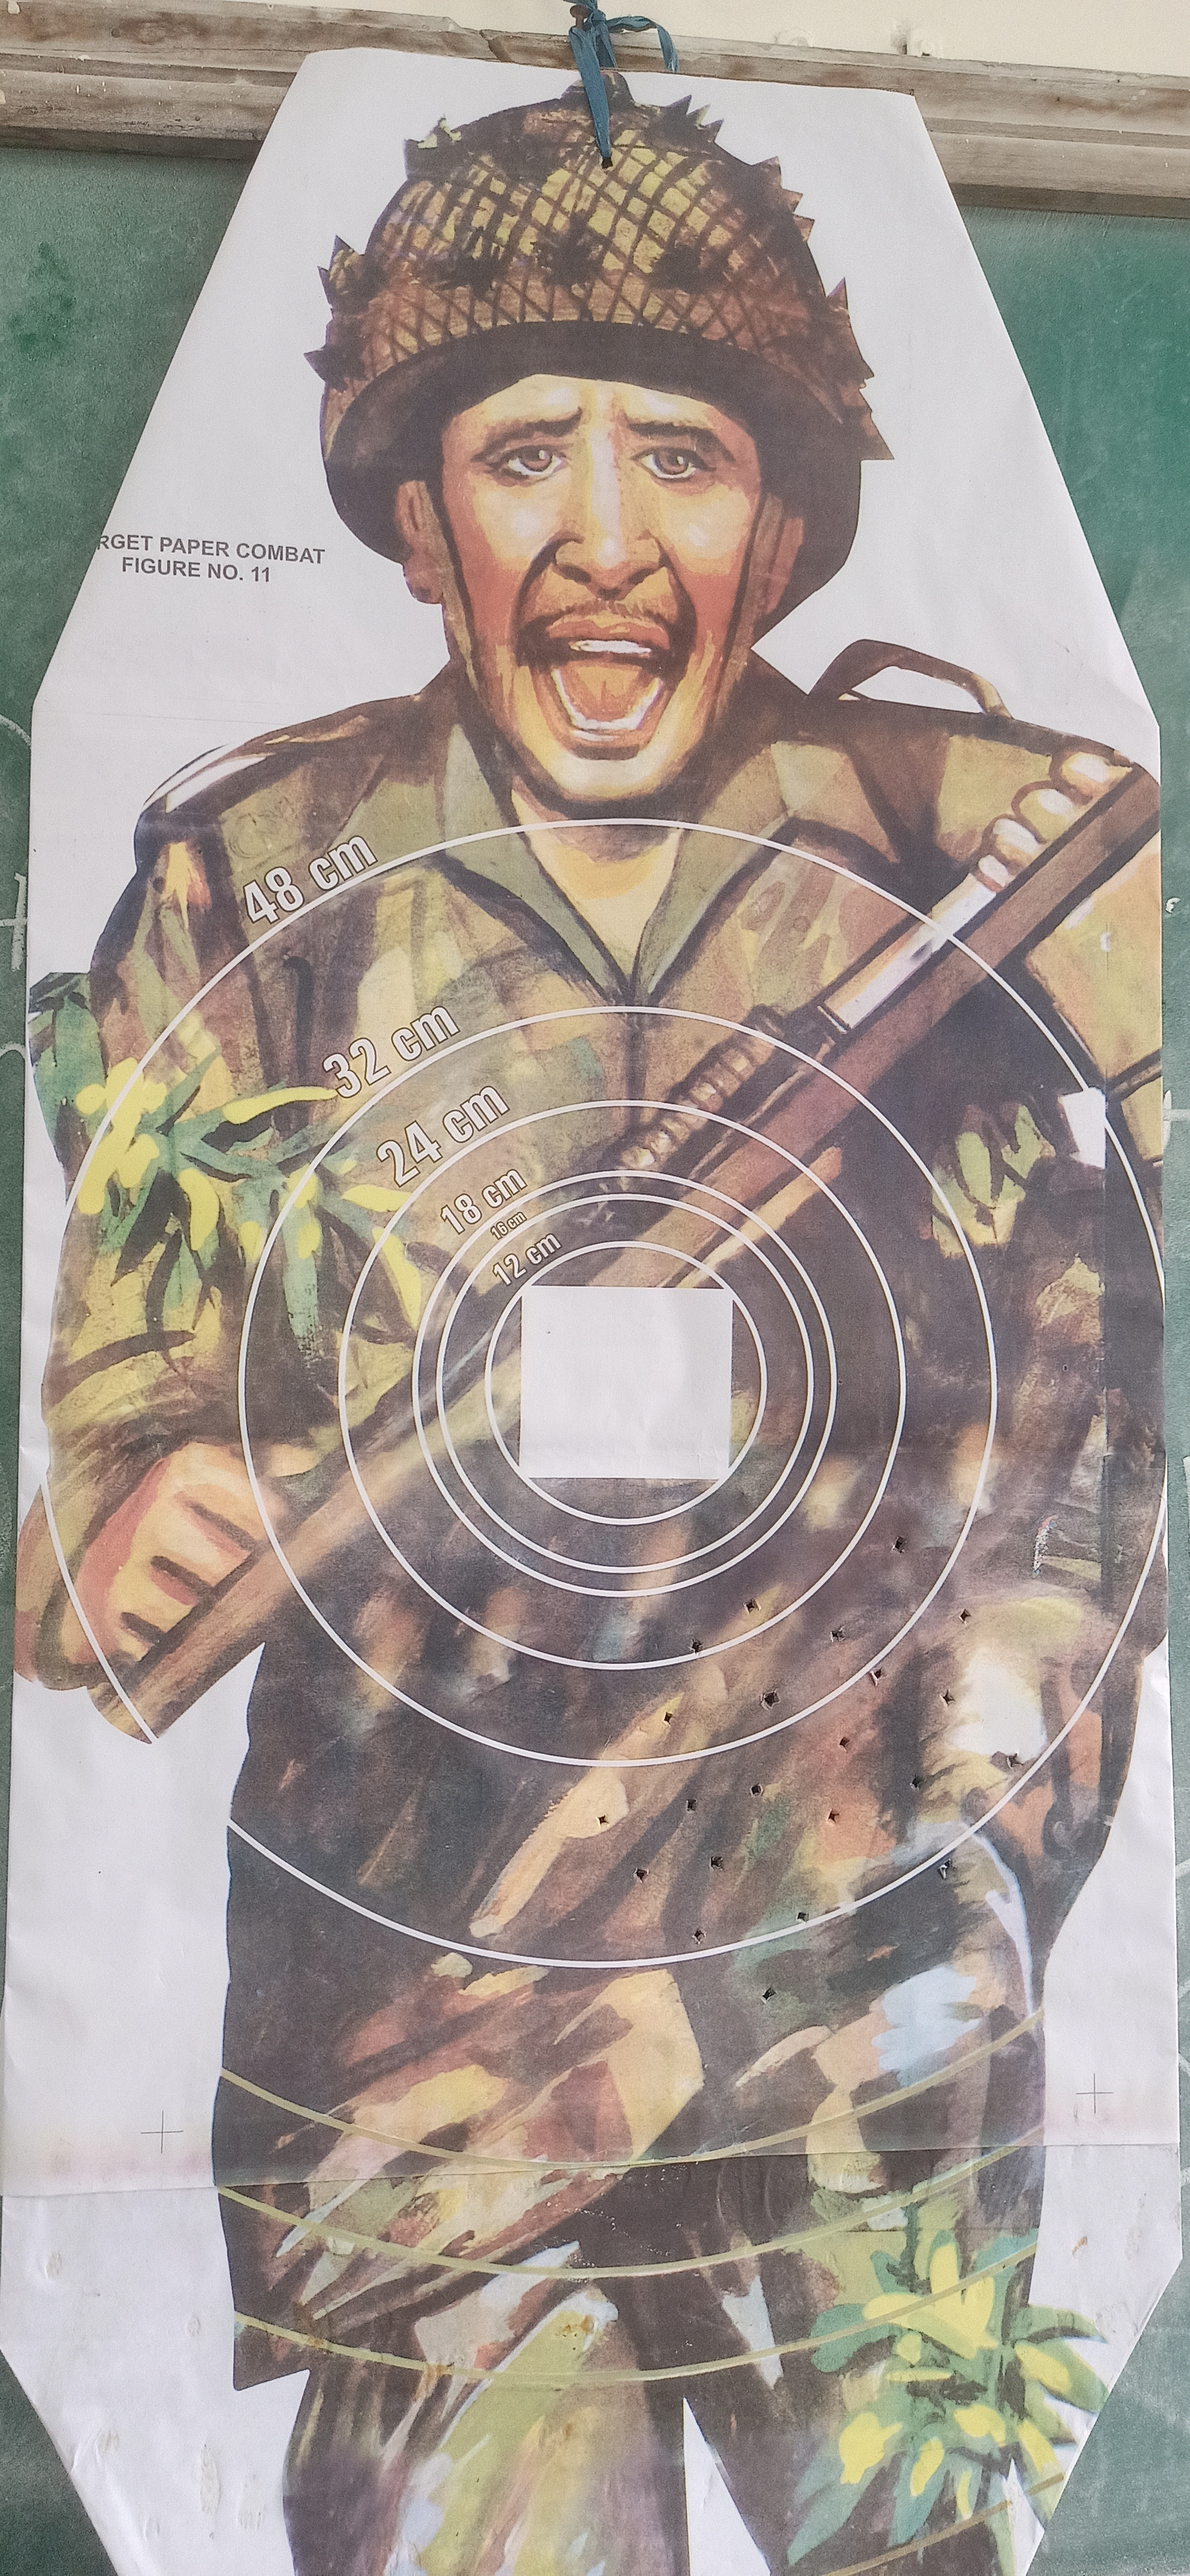bullet hit: (758, 1689, 782, 1712), (866, 1664, 889, 1687), (741, 1595, 763, 1617), (828, 1625, 848, 1646), (689, 1925, 708, 1947), (759, 1985, 779, 2006), (1004, 1751, 1026, 1771), (937, 1858, 955, 1881), (939, 1687, 958, 1707), (891, 1534, 909, 1556), (955, 1607, 973, 1626), (659, 1709, 677, 1728), (825, 1807, 843, 1827), (707, 1853, 725, 1873), (631, 1866, 651, 1884), (909, 1773, 927, 1792), (687, 1636, 705, 1656), (748, 1781, 766, 1799), (837, 1735, 853, 1753), (595, 1812, 611, 1828), (684, 1799, 699, 1814), (794, 1911, 810, 1924)
white box: (518, 1285, 733, 1479)
